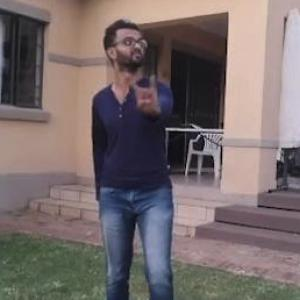takeoff-hand: (130, 69, 166, 112)
